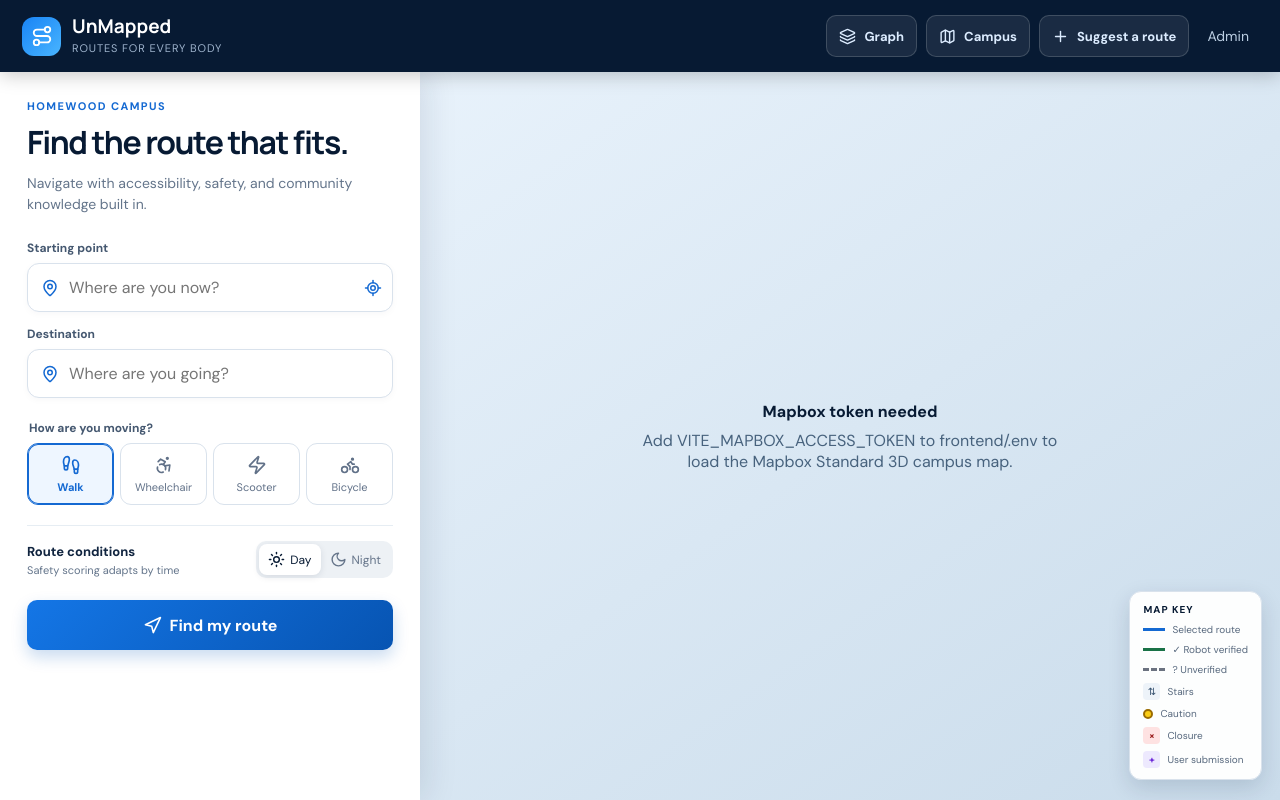
Scenario: route planner › renders route stats and steps after a successful request
The width and height of the screenshot is (1280, 800).
Type "Eisenhower" into the dropdown with placeholder "Where are you now?".
click(206, 288); type("Eisenhower")  # box [59, 264, 354, 311]
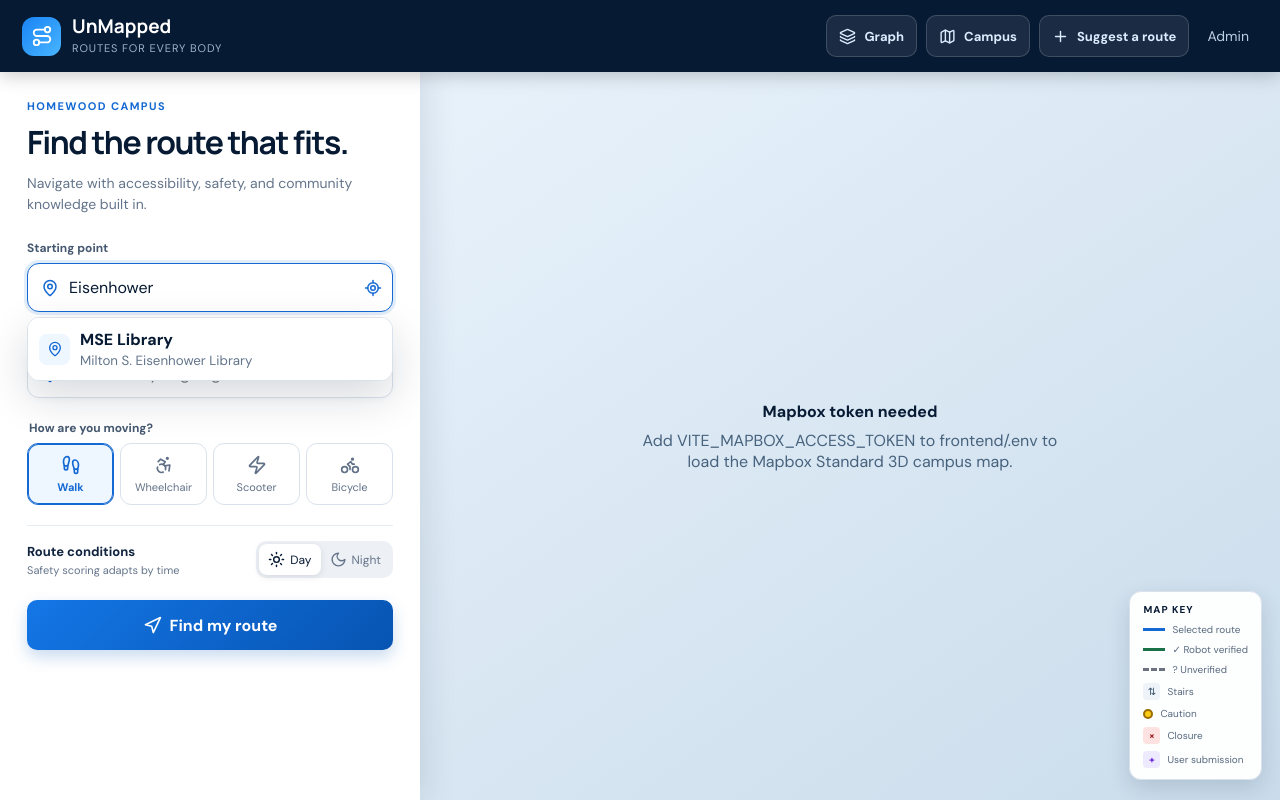
Click the option "MSE Library Milton S. Eisenhower Library".
click(210, 349)  # box [28, 318, 392, 380]
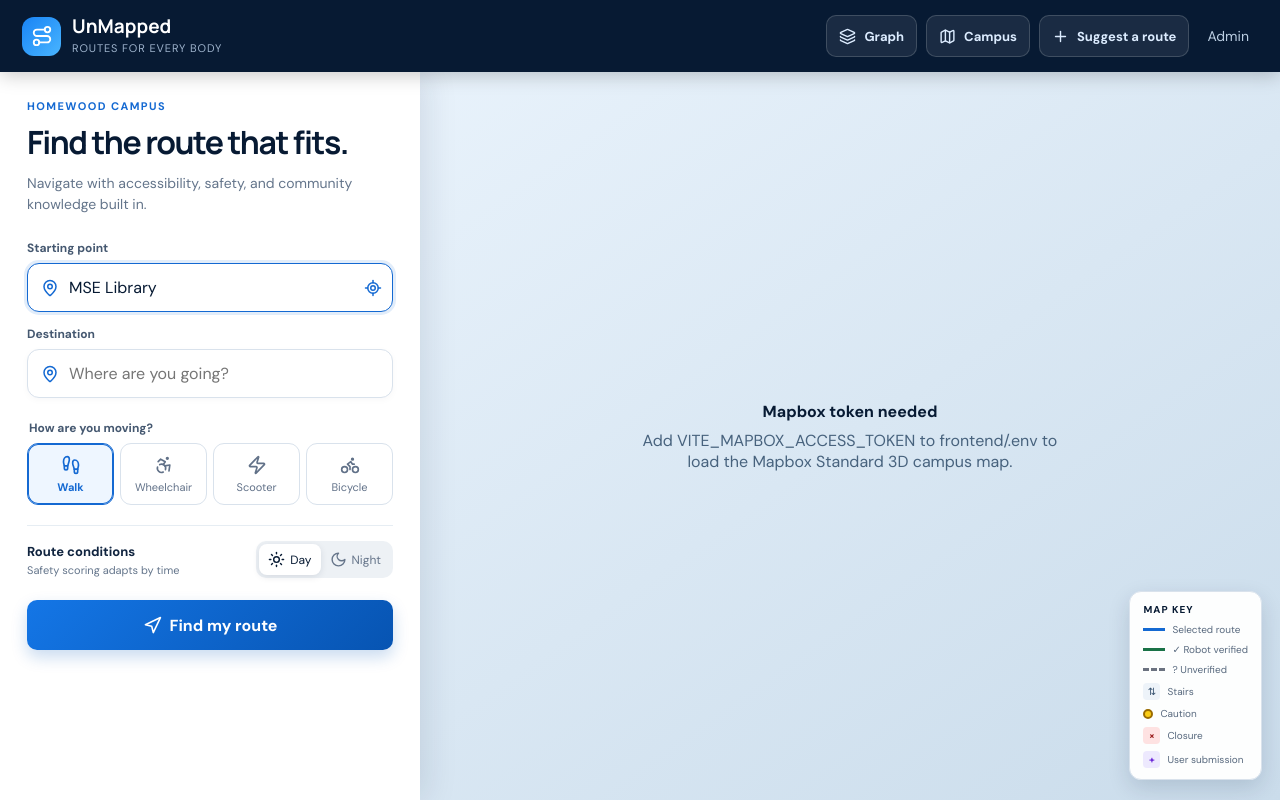
Type "Gilman" into the dropdown with placeholder "Where are you going?".
click(226, 374); type("Gilman")  # box [59, 350, 392, 397]
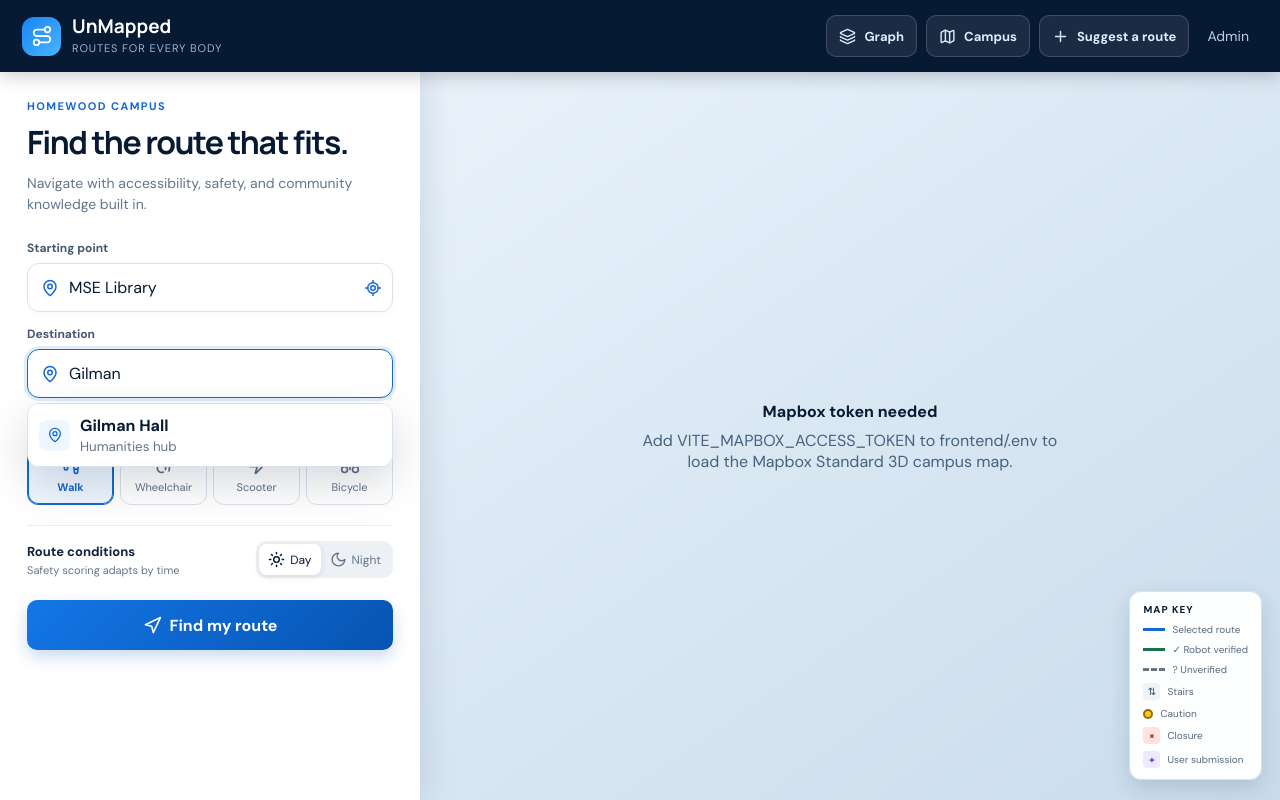
Click the option "Gilman Hall Humanities hub".
click(54, 435)  # box [28, 404, 392, 466]
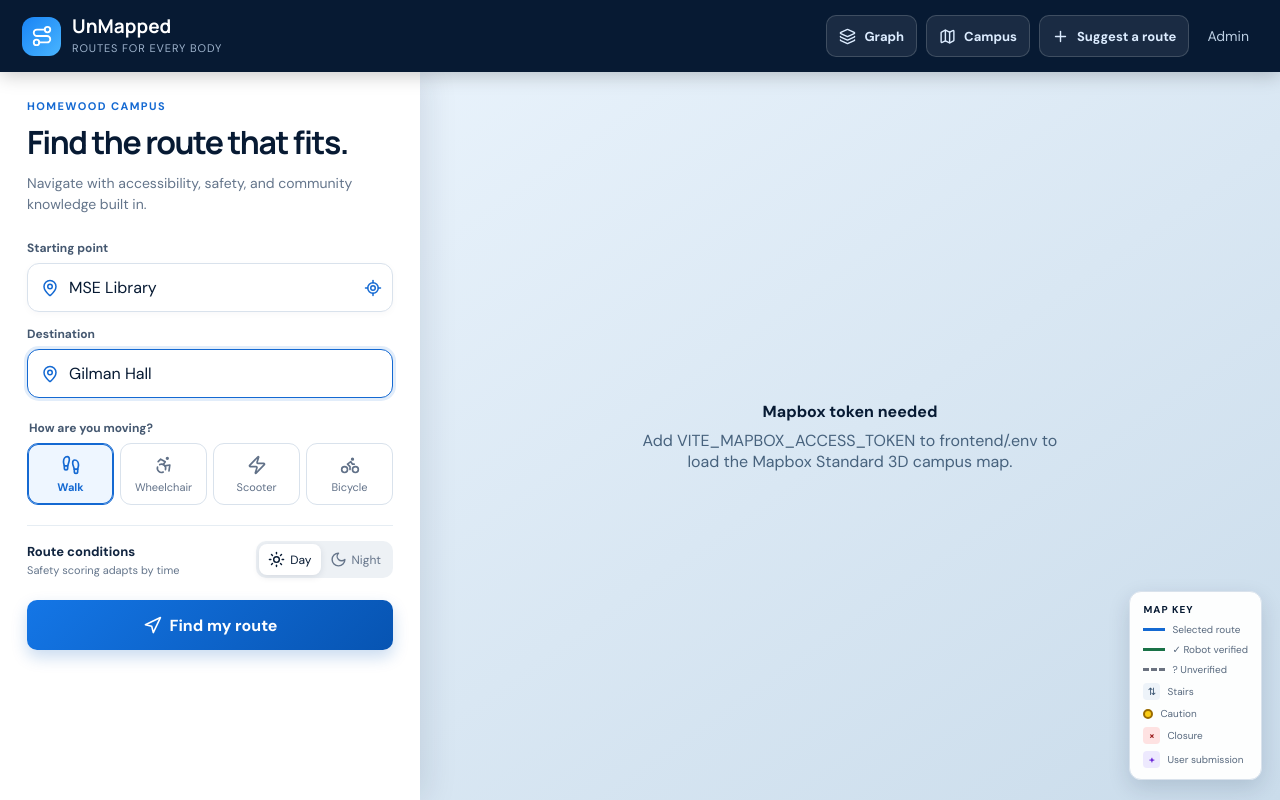
Click the button "Find my route".
click(210, 625)  # box [27, 600, 393, 650]
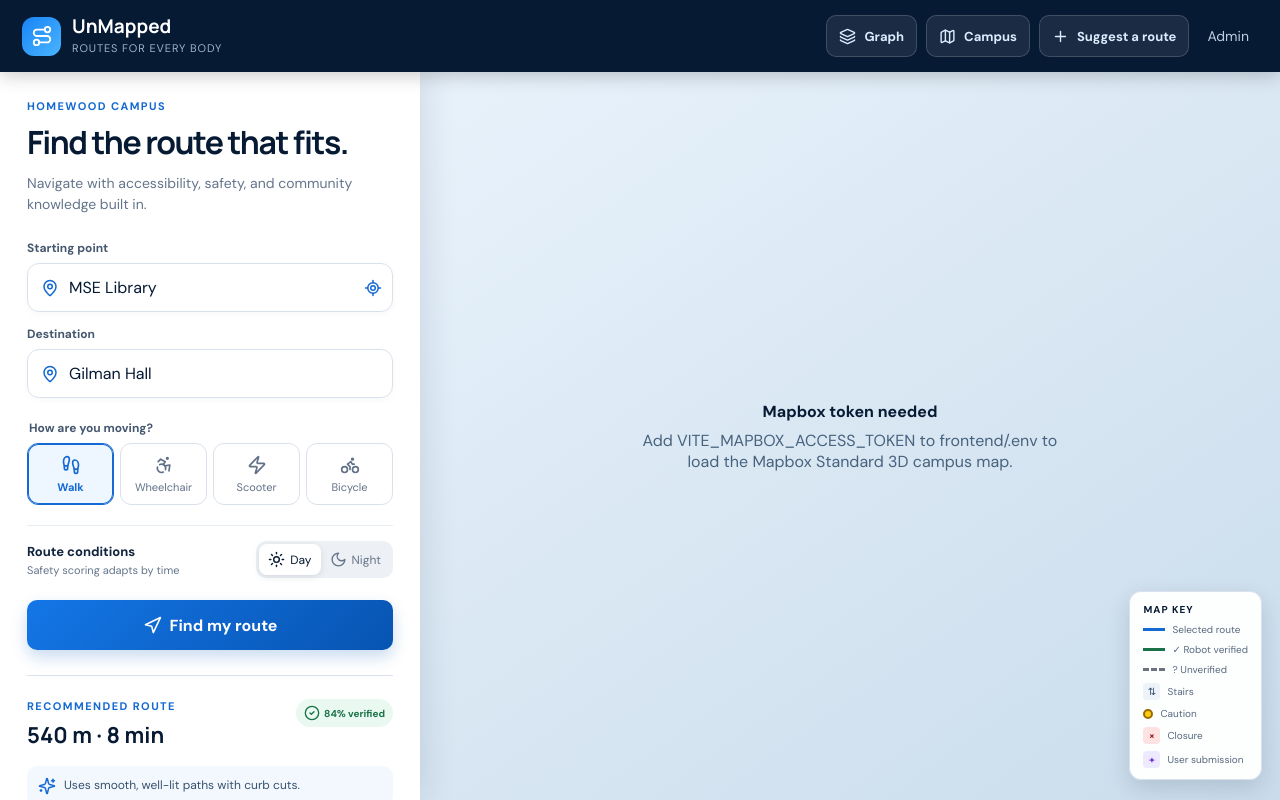
Expected: the heading "540 m · 8 min" is shown, [27, 720, 176, 750]
Expected: the text "84% verified" is shown, [296, 699, 393, 727]
